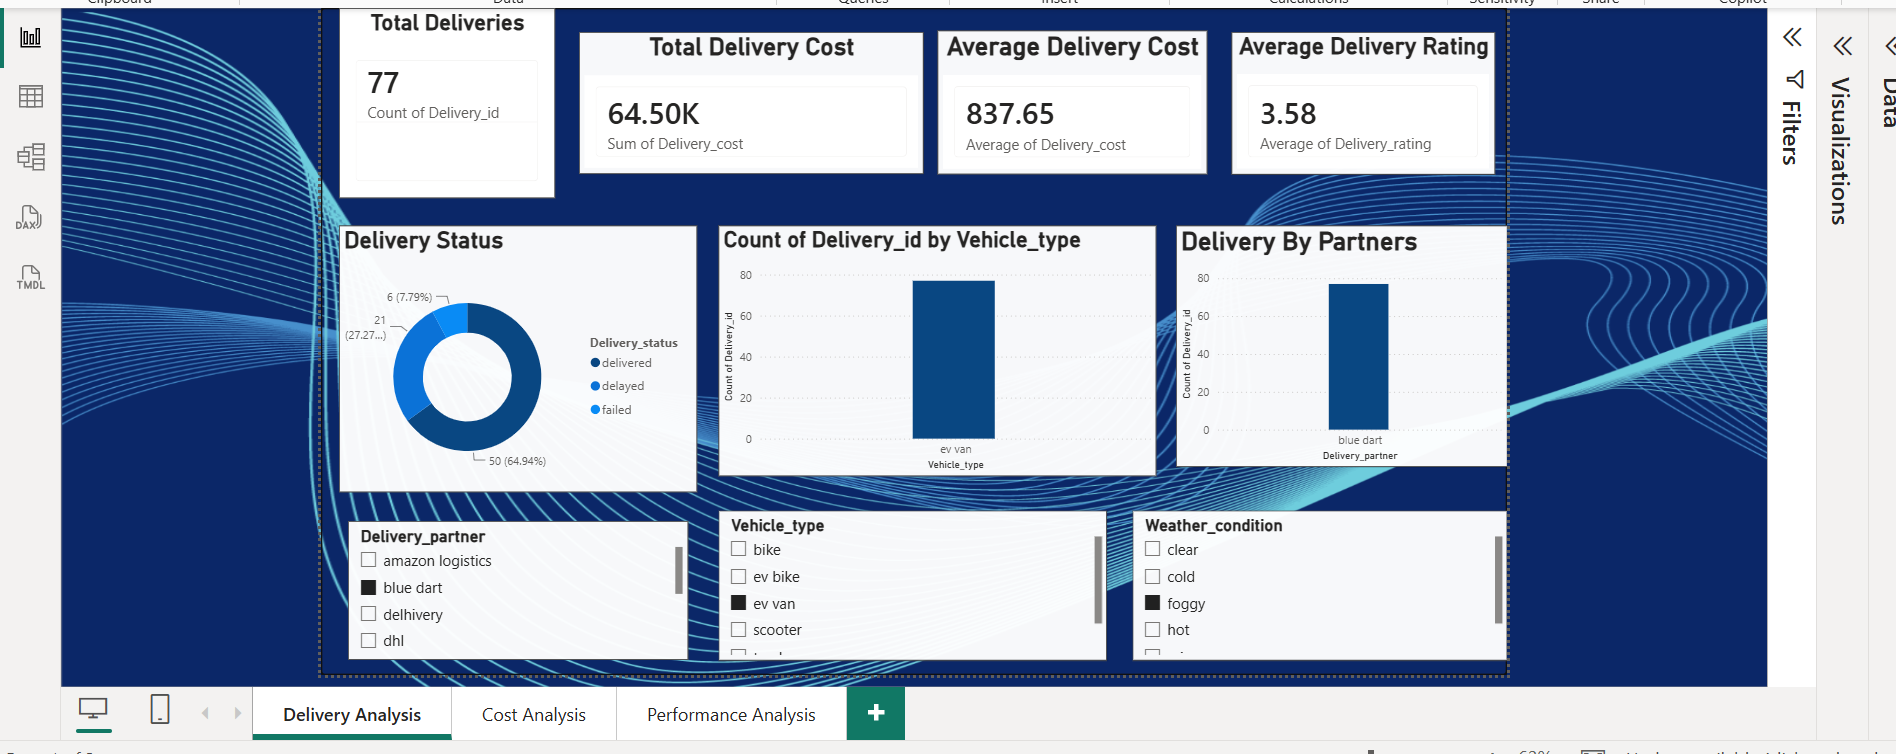

Layout of this report page (visuals, bound fields, positions):
{"tool":"powerbi","page":{"name":"Delivery Analysis","canvas":[1280,720],"ordinal":0},"visuals":[{"type":"cardVisual","title":"Total Deliveries","fields":{"Data":["CountNonNull(Delivery_Logistics.Delivery_id)"]},"box":[19.4,0,233.2,205.6],"z":0},{"type":"cardVisual","title":"Total Delivery Cost","fields":{"Data":["Sum(Delivery_Logistics.Delivery_cost)"]},"box":[278.5,25.9,372.3,153.1],"z":1000},{"type":"cardVisual","title":"Average Delivery Cost","fields":{"Data":["Avg(Delivery_Logistics.Delivery_cost)"]},"box":[665.5,24.3,291.5,155.4],"z":2000},{"type":"cardVisual","title":"Average Delivery Rating","fields":{"Data":["Avg(Delivery_Logistics.Delivery_rating)"]},"box":[982.9,25.9,285,153.8],"z":3000},{"type":"clusteredColumnChart","title":"Delivery By Partners","fields":{"Category":["Delivery_Logistics.Delivery_partner"],"Y":["CountNonNull(Delivery_Logistics.Delivery_id)"]},"box":[923,234.8,357.8,260.7],"z":4000},{"type":"donutChart","title":"Delivery Status","fields":{"Category":["Delivery_Logistics.Delivery_status"],"Y":["CountNonNull(Delivery_Logistics.Delivery_id)"]},"box":[19.4,234.8,387,288.2],"z":5000},{"type":"clusteredColumnChart","fields":{"Category":["Delivery_Logistics.Vehicle_type"],"Y":["CountNonNull(Delivery_Logistics.Delivery_id)"]},"box":[429.1,234.8,472.8,270.4],"z":6000},{"type":"slicer","title":"fghfgh","fields":{"Values":["Delivery_Logistics.Delivery_partner"]},"box":[29.1,553.8,367,150],"z":7000},{"type":"slicer","fields":{"Values":["Delivery_Logistics.Vehicle_type"]},"box":[429.1,542.4,419.4,161.9],"z":8000},{"type":"slicer","fields":{"Values":["Delivery_Logistics.Weather_condition"]},"box":[876,542.4,404.8,161.9],"z":9000}]}

Visuals, with their boxes on the page's 1280x720 design canvas (x1, y1, x2, y2). These are canvas units, not pixel positions in the 1896x754 screenshot, which may show the page scaled, cropped or inside an application window:
"Total Deliveries" cardVisual: select_region(19, 0, 253, 206)
"Total Delivery Cost" cardVisual: select_region(278, 26, 651, 179)
"Average Delivery Cost" cardVisual: select_region(666, 24, 957, 180)
"Average Delivery Rating" cardVisual: select_region(983, 26, 1268, 180)
"Delivery By Partners" clusteredColumnChart: select_region(923, 235, 1281, 496)
"Delivery Status" donutChart: select_region(19, 235, 406, 523)
clusteredColumnChart - Delivery_Logistics.Vehicle_type x CountNonNull(Delivery_Logistics.Delivery_id): select_region(429, 235, 902, 505)
"fghfgh" slicer: select_region(29, 554, 396, 704)
slicer - Delivery_Logistics.Vehicle_type: select_region(429, 542, 848, 704)
slicer - Delivery_Logistics.Weather_condition: select_region(876, 542, 1281, 704)
